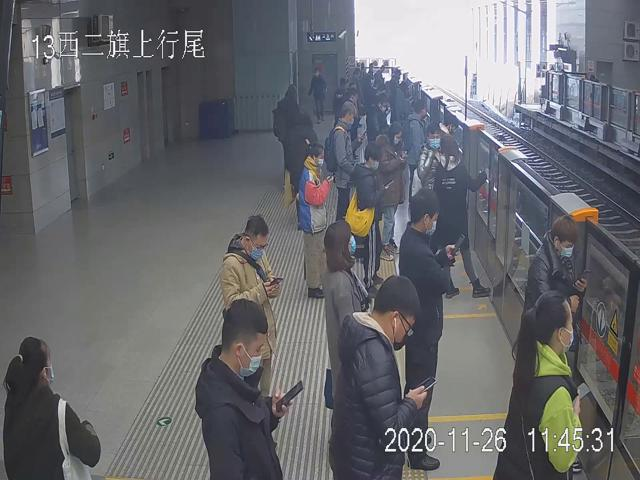person: (328, 274, 428, 480), (195, 298, 294, 480), (399, 187, 455, 470), (220, 214, 280, 404), (435, 137, 488, 299), (351, 141, 389, 298), (299, 144, 334, 298), (328, 100, 362, 214), (379, 123, 405, 260), (407, 98, 428, 204)
